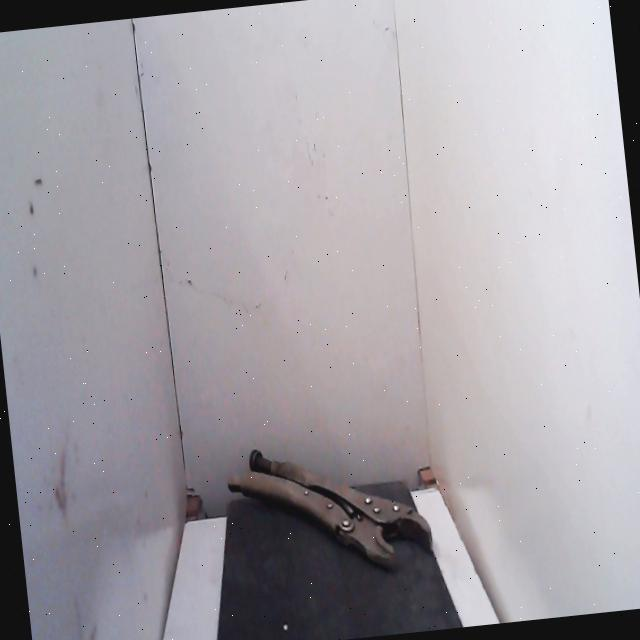metal: (206, 390, 450, 622)
